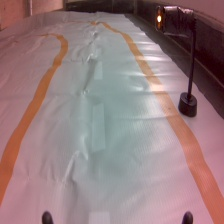yellow: (154, 4, 200, 119)
